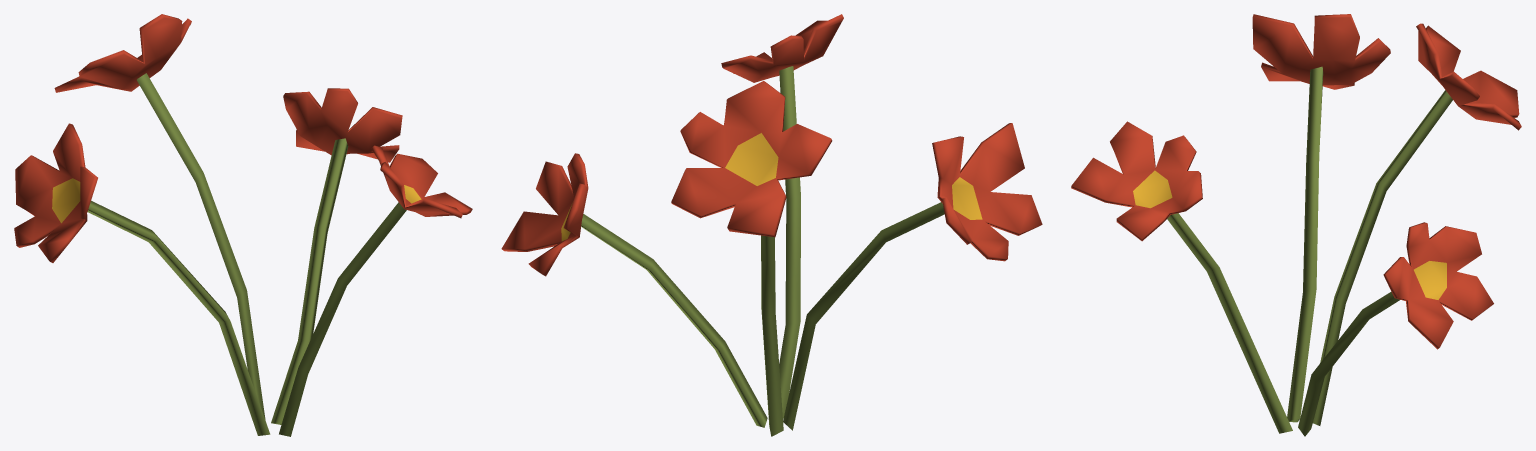
File: rpgpp_ag_flower_01a 1.fbx
3 renders of one model, left to right at view 1: azimuth 30°, elevation 25°; view 2: azimuth 150°, elevation 25°; view 3: azimuth 270°, elevation 25°, orthographic. The views are drawn at different scales.
Parts seen in each view (by area): view 1: rpgpp_ag_flower_01a; view 2: rpgpp_ag_flower_01a; view 3: rpgpp_ag_flower_01a.
Boxes of the visible parts, x1,y1,x2,y2 form: rpgpp_ag_flower_01a: [14, 14, 472, 436]; rpgpp_ag_flower_01a: [501, 14, 1042, 436]; rpgpp_ag_flower_01a: [1071, 14, 1521, 436].
Bounding box in the file's own units: 1.21 × 1.04 × 1.12.
